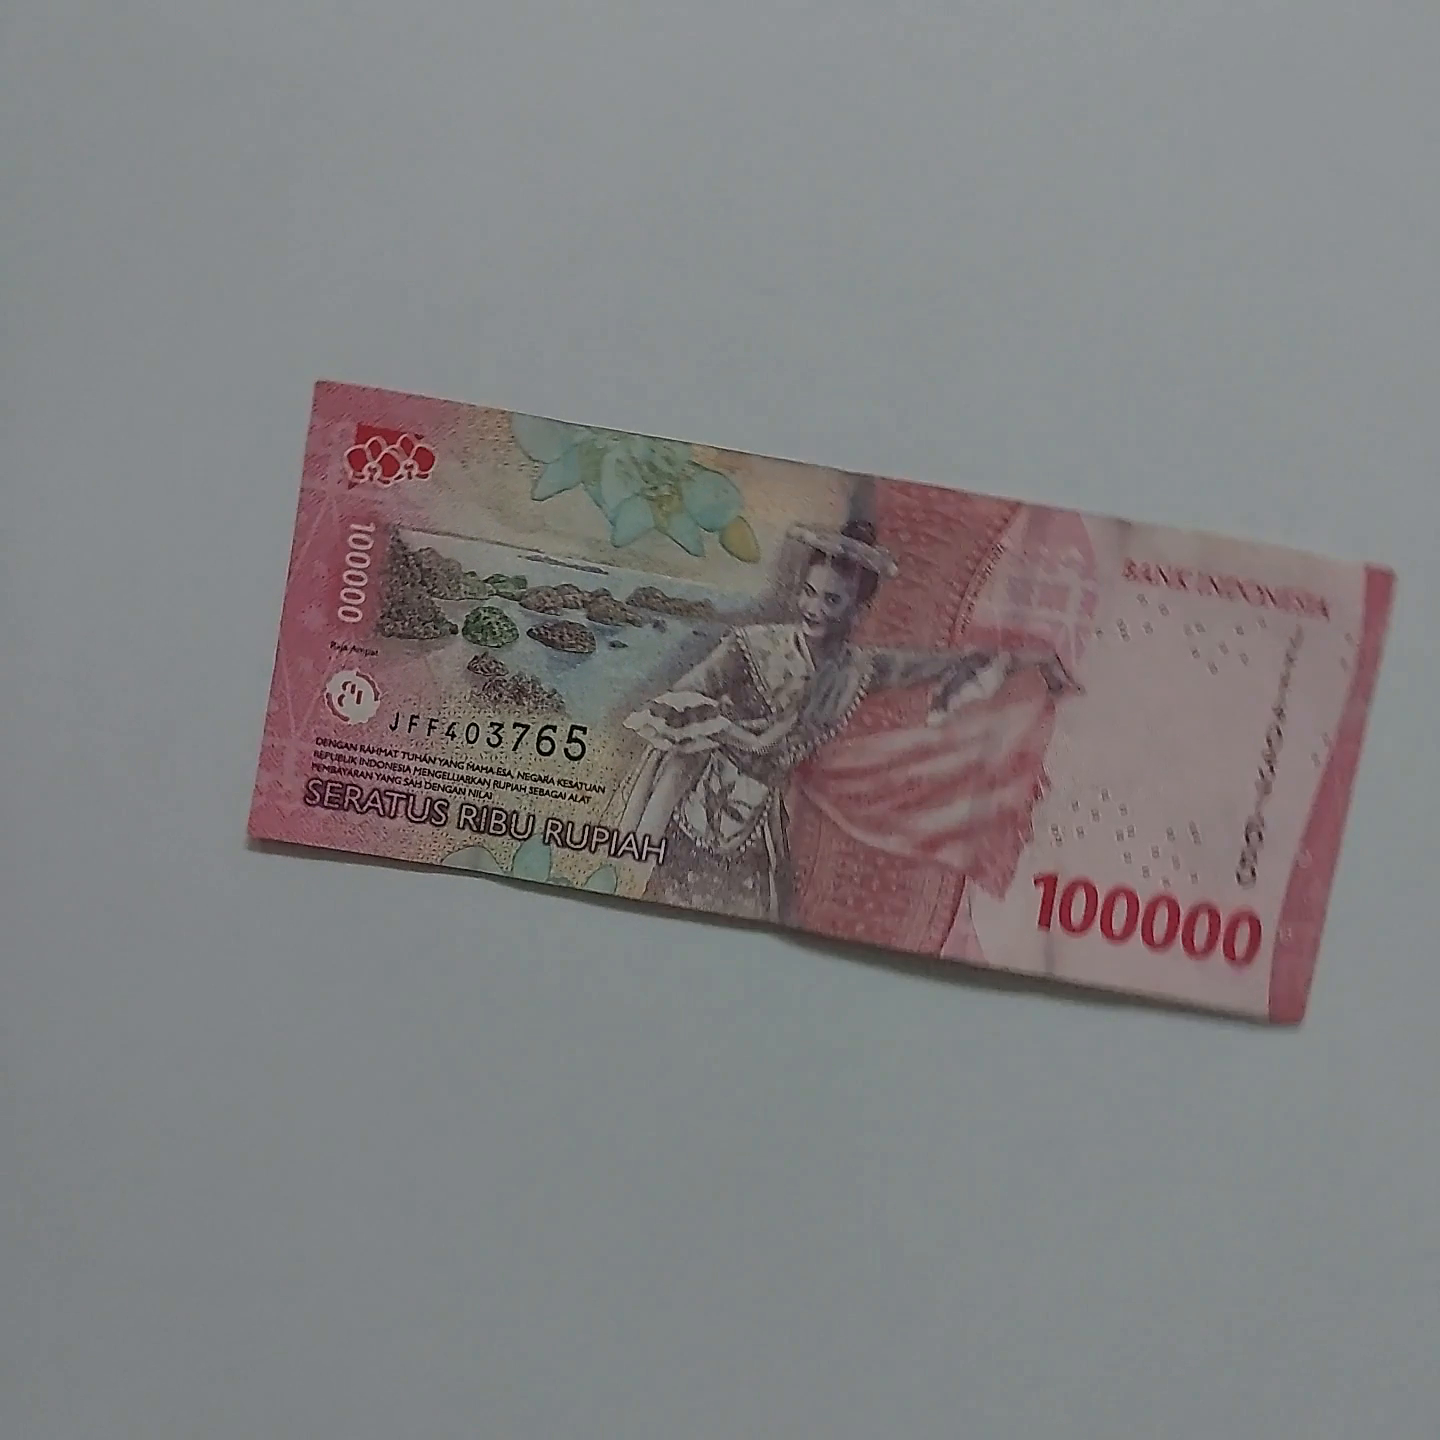100k: (235, 353, 1440, 1027)
